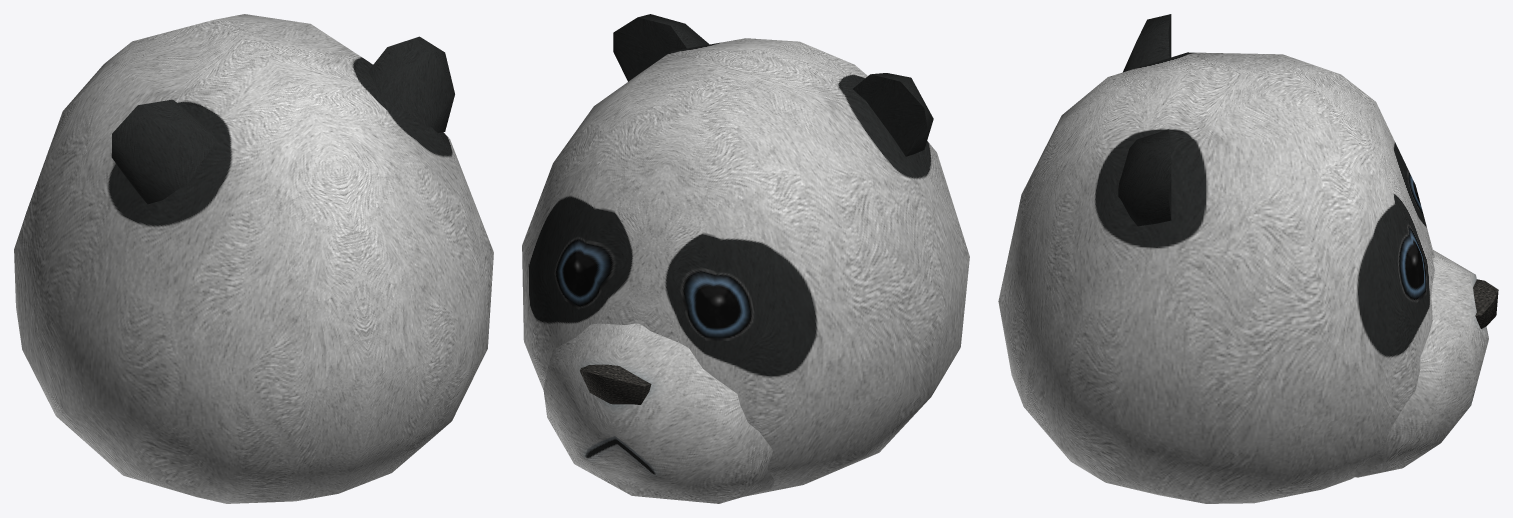
The model's file is CRT0110022.FBX.
3 views of the same model, side by side, from view 1: azimuth 30°, elevation 25°; view 2: azimuth 150°, elevation 25°; view 3: azimuth 270°, elevation 25° (orthographic). The views are drawn at different scales.
Parts seen in each view (by area): view 1: smCRT0110022; view 2: smCRT0110022; view 3: smCRT0110022.
Part boxes in pixels (x1,y1,x2,y2): smCRT0110022: [14, 14, 493, 503]; smCRT0110022: [522, 14, 969, 503]; smCRT0110022: [998, 14, 1498, 503].
Size of the model in its own units: 19.57 by 19.76 by 21.88.
